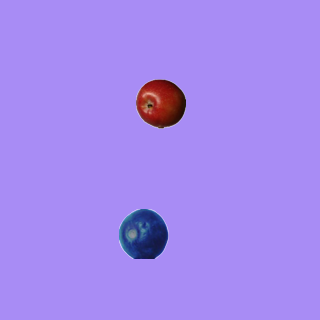Apple Braeburn: (135, 78, 185, 128)
Huckleberry: (118, 208, 168, 258)
